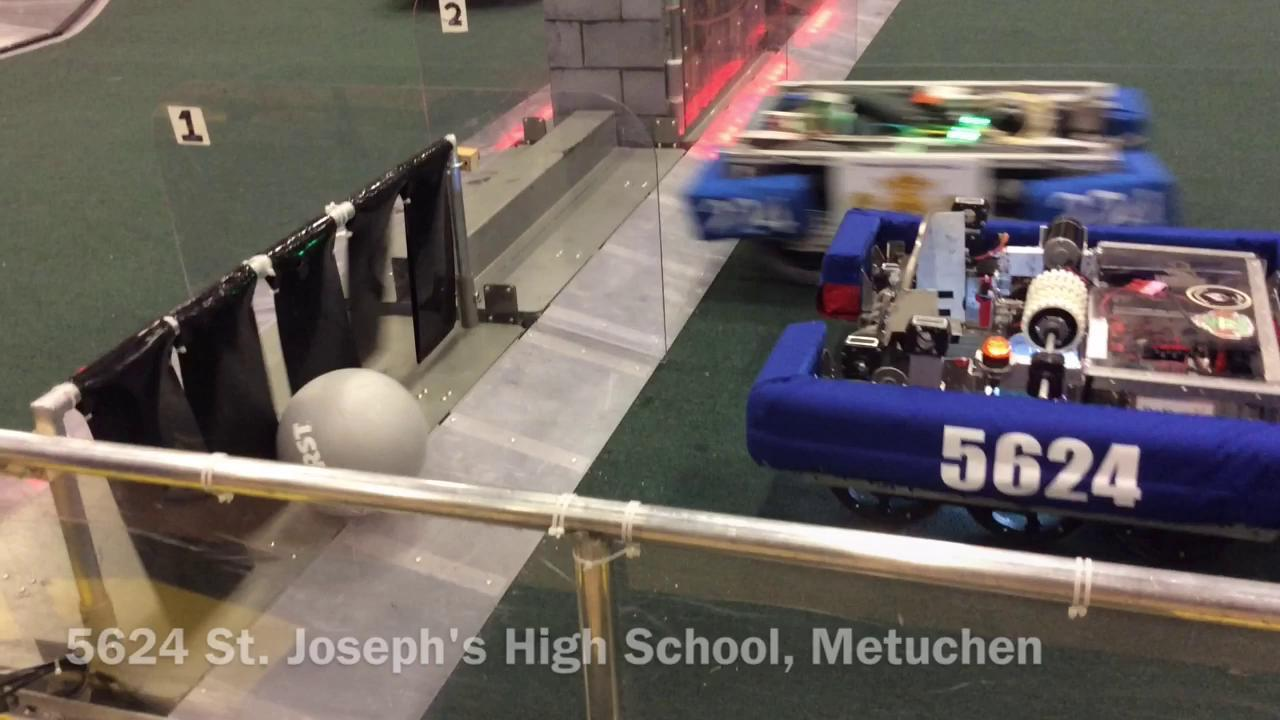robot: (750, 197, 1280, 539), (685, 78, 1182, 281)
